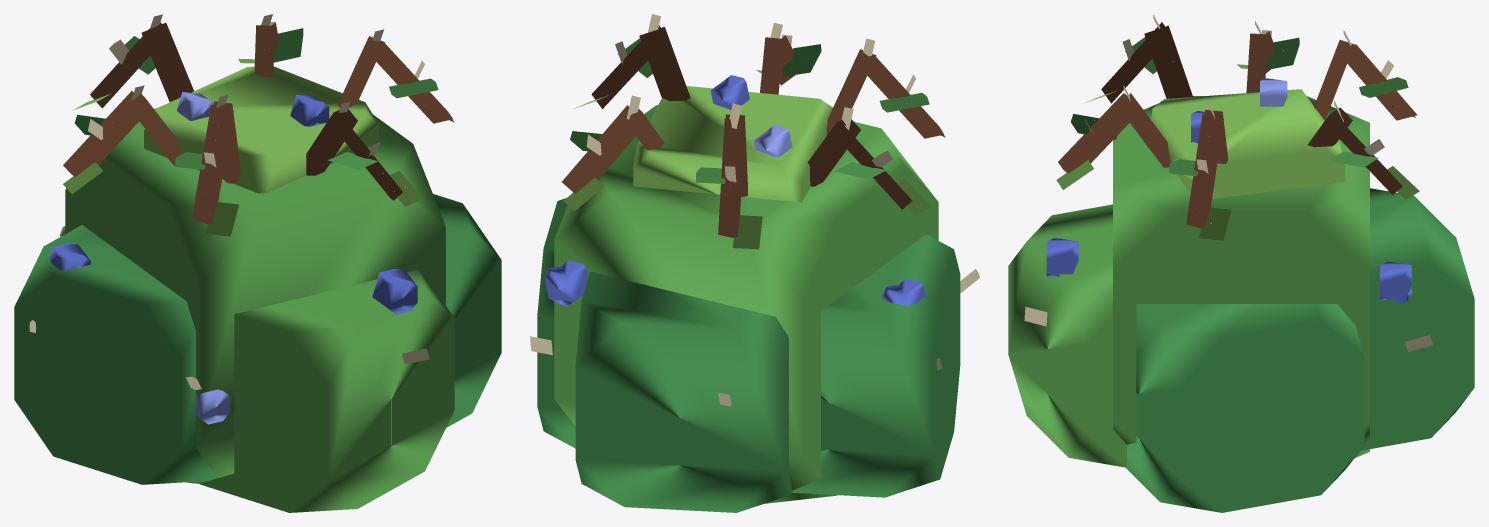
The model's file is thorn-bush-pixor-blocky_lod1.glb.
The picture shows the model from 3 angles, left to right: view 1: azimuth 30°, elevation 25°; view 2: azimuth 150°, elevation 25°; view 3: azimuth 270°, elevation 25°; orthographic projection. The views are drawn at different scales.
Parts seen in each view (by area): view 1: Thorn bush core, Thorn canes, Thorn berries, Thorn leaves, Thorns; view 2: Thorn bush core, Thorn canes, Thorn leaves, Thorn berries, Thorns; view 3: Thorn bush core, Thorn canes, Thorn leaves, Thorn berries, Thorns.
Boxes of the visible parts, <box> form: Thorn bush core: <box>14,66,501,512</box>; Thorn canes: <box>63,22,452,223</box>; Thorn berries: <box>49,92,417,424</box>; Thorn leaves: <box>63,28,454,236</box>; Thorns: <box>29,14,429,389</box>; Thorn bush core: <box>537,86,960,512</box>; Thorn canes: <box>562,25,943,238</box>; Thorn leaves: <box>563,38,945,249</box>; Thorn berries: <box>544,75,925,306</box>; Thorns: <box>530,14,979,406</box>; Thorn bush core: <box>1008,89,1474,512</box>; Thorn canes: <box>1058,22,1417,228</box>; Thorn leaves: <box>1056,37,1419,240</box>; Thorn berries: <box>1046,78,1411,303</box>; Thorns: <box>1024,15,1432,351</box>.
Bounding box in the file's own units: 1.04 × 0.885 × 1.02.
1 material, 1 textured.
